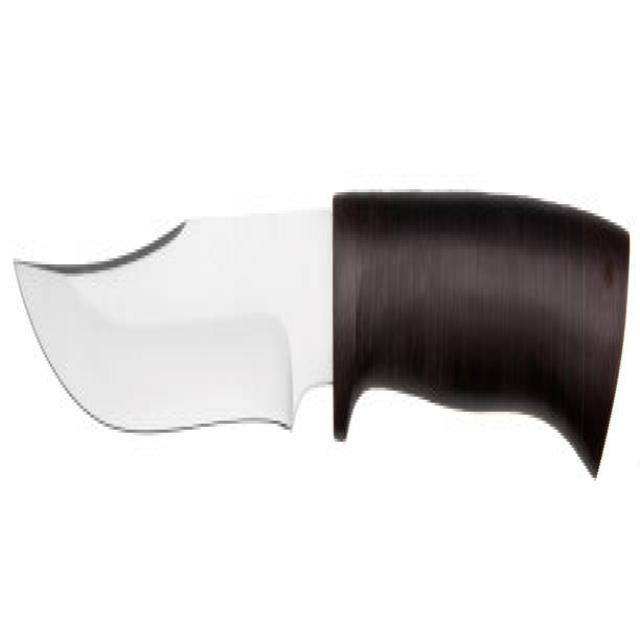knife: (12, 171, 637, 501)
